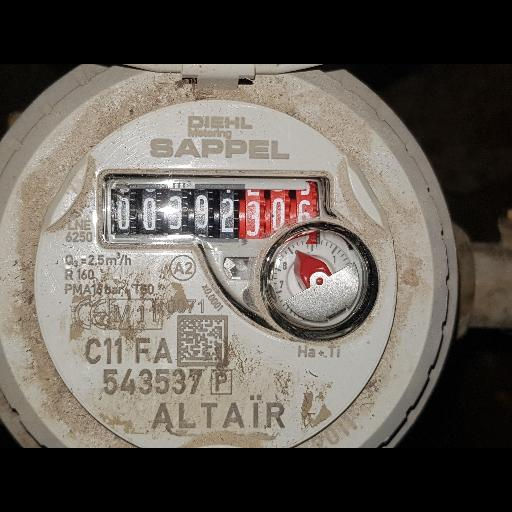0: (265, 190, 292, 239), (111, 189, 137, 236), (135, 188, 161, 235)
2: (213, 190, 239, 239)
3: (239, 189, 266, 239), (161, 189, 187, 236)
6: (292, 181, 317, 225)
9: (187, 188, 214, 238)
border_water_meter_number: (97, 169, 335, 249)
